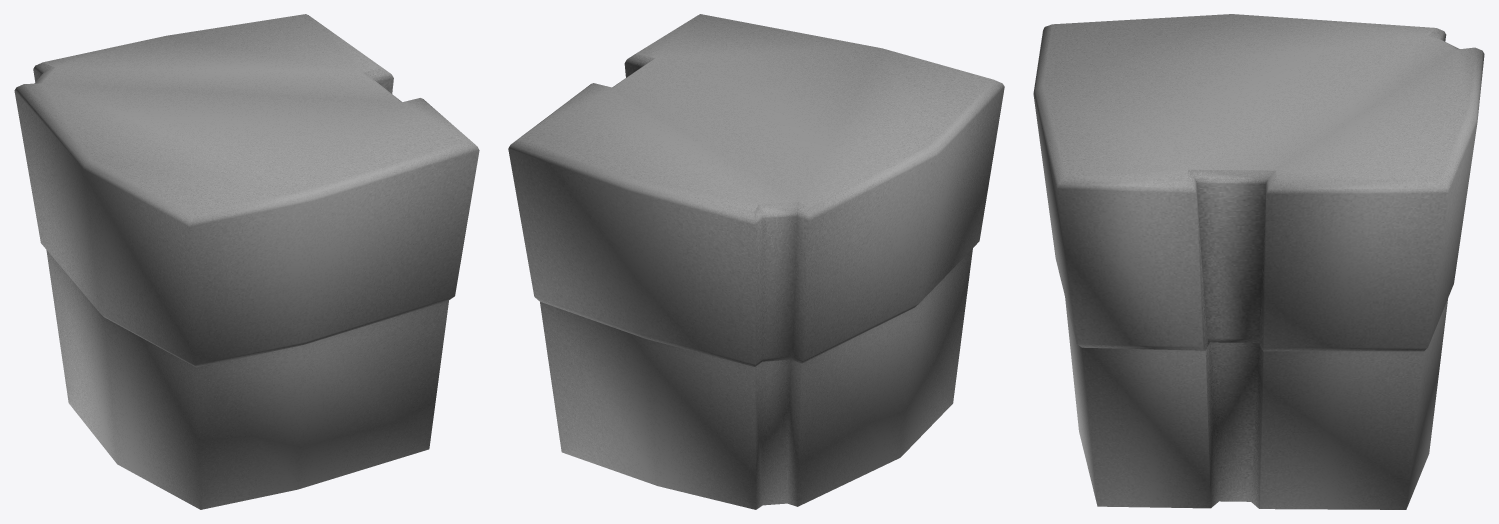
The model's file is mesh-terrainchunk.fbx.
The picture shows the model from 3 angles, left to right: view 1: azimuth 30°, elevation 25°; view 2: azimuth 150°, elevation 25°; view 3: azimuth 270°, elevation 25°; orthographic projection. The views are drawn at different scales.
Parts seen in each view (by area): view 1: Cube; view 2: Cube; view 3: Cube.
Boxes of the visible parts, bbox=[...] form: Cube: bbox=[14, 14, 479, 509]; Cube: bbox=[508, 14, 1004, 509]; Cube: bbox=[1033, 14, 1484, 509].
Size of the model in its own units: 891 by 818 by 972.
